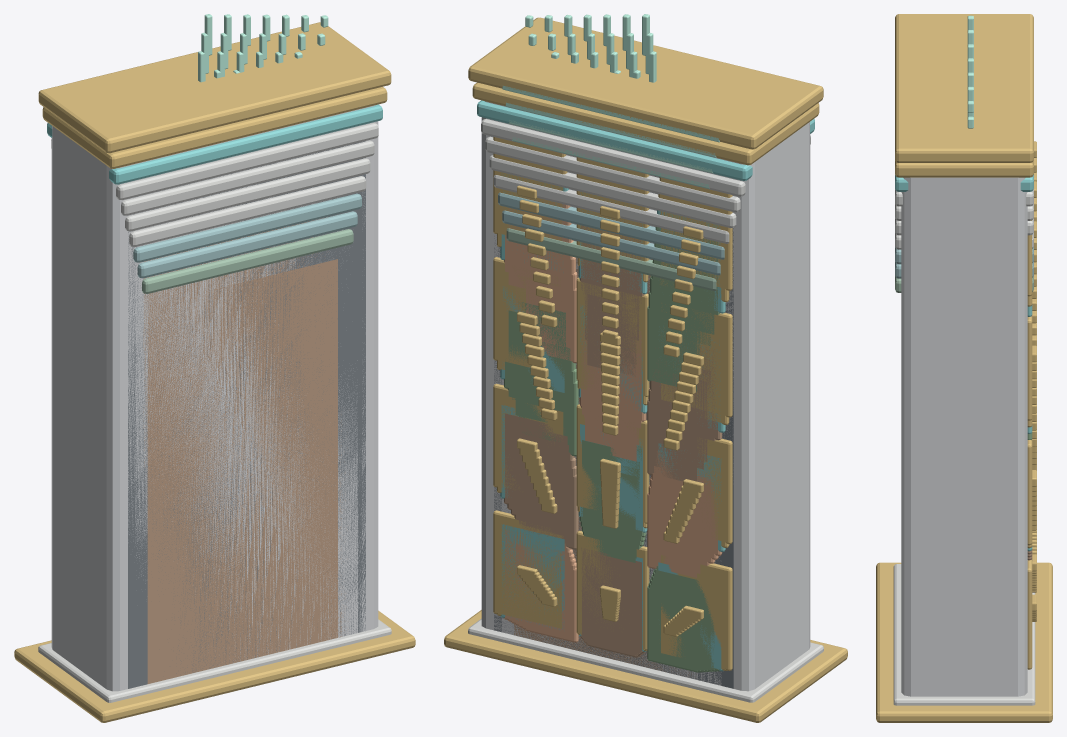
The model's file is Gear18.fbx.
3 views of the same model, side by side, from view 1: azimuth 30°, elevation 25°; view 2: azimuth 150°, elevation 25°; view 3: azimuth 270°, elevation 25° (orthographic).
Parts seen in each view (by area): view 1: Gear18_V10_Platinum, Gear18_V1_Wood, Gear18_V6_Platinum, Gear18_V10_Gold, Gear18_V3_Wood, Gear18_V7_Graphite, Gear18_V8_Graphite, Gear18_V9_Gold, Gear18_V2_Wood, Gear18_V6_Chrome, Gear18_V7_Chrome, Gear18_V5_Chrome (+12 smaller); view 2: Gear18_V10_Gold, Gear18_V10_Platinum, Gear18_V9_Gold, Gear18_V8_Aqua, Gear18_V3_Wood, Gear18_V6_Leaf, Gear18_V2_Wood, Gear18_V1_Wood, Gear18_V6_Apricot, Gear18_V1_Apricot, Gear18_V4_Wood, Gear18_V1_Leaf (+36 smaller); view 3: Gear18_V10_Platinum, Gear18_V10_Gold, Gear18_V9_Gold, Gear18_V10_Chrome, Gear18_V10_Glow, Gear18_V8_Aqua, Gear18_V6_Chrome, Gear18_V5_Chrome, Gear18_V4_Chrome.
Part boxes in pixels (x1,y1,x2,y2): Gear18_V10_Platinum: (51, 105, 378, 691); Gear18_V1_Wood: (155, 259, 337, 673); Gear18_V6_Platinum: (135, 197, 357, 660); Gear18_V10_Gold: (14, 22, 415, 722); Gear18_V3_Wood: (147, 248, 345, 683); Gear18_V7_Graphite: (132, 158, 361, 659); Gear18_V8_Graphite: (128, 141, 365, 688); Gear18_V9_Gold: (42, 86, 409, 714); Gear18_V2_Wood: (151, 253, 341, 675); Gear18_V6_Chrome: (121, 140, 374, 697); Gear18_V7_Chrome: (51, 123, 378, 699); Gear18_V5_Chrome: (125, 158, 370, 697); Gear18_V10_Gold: (444, 17, 847, 722); Gear18_V10_Platinum: (481, 101, 810, 691); Gear18_V9_Gold: (450, 82, 819, 721); Gear18_V8_Aqua: (477, 100, 814, 671); Gear18_V3_Wood: (514, 240, 703, 676); Gear18_V6_Leaf: (507, 243, 716, 671); Gear18_V2_Wood: (518, 258, 697, 677); Gear18_V1_Wood: (522, 269, 696, 657); Gear18_V6_Apricot: (507, 208, 718, 633); Gear18_V1_Apricot: (525, 279, 696, 642); Gear18_V4_Wood: (514, 224, 707, 655); Gear18_V1_Leaf: (526, 306, 699, 672); Gear18_V10_Platinum: (901, 177, 1027, 696); Gear18_V10_Gold: (876, 14, 1052, 722); Gear18_V9_Gold: (877, 157, 1052, 700); Gear18_V10_Chrome: (893, 564, 1035, 705); Gear18_V10_Glow: (967, 15, 973, 112); Gear18_V8_Aqua: (895, 174, 1033, 551); Gear18_V6_Chrome: (894, 203, 1035, 692); Gear18_V5_Chrome: (894, 218, 1033, 689); Gear18_V4_Chrome: (893, 232, 1033, 681).
Bounding box in the file's own units: 114 × 220 × 56.
